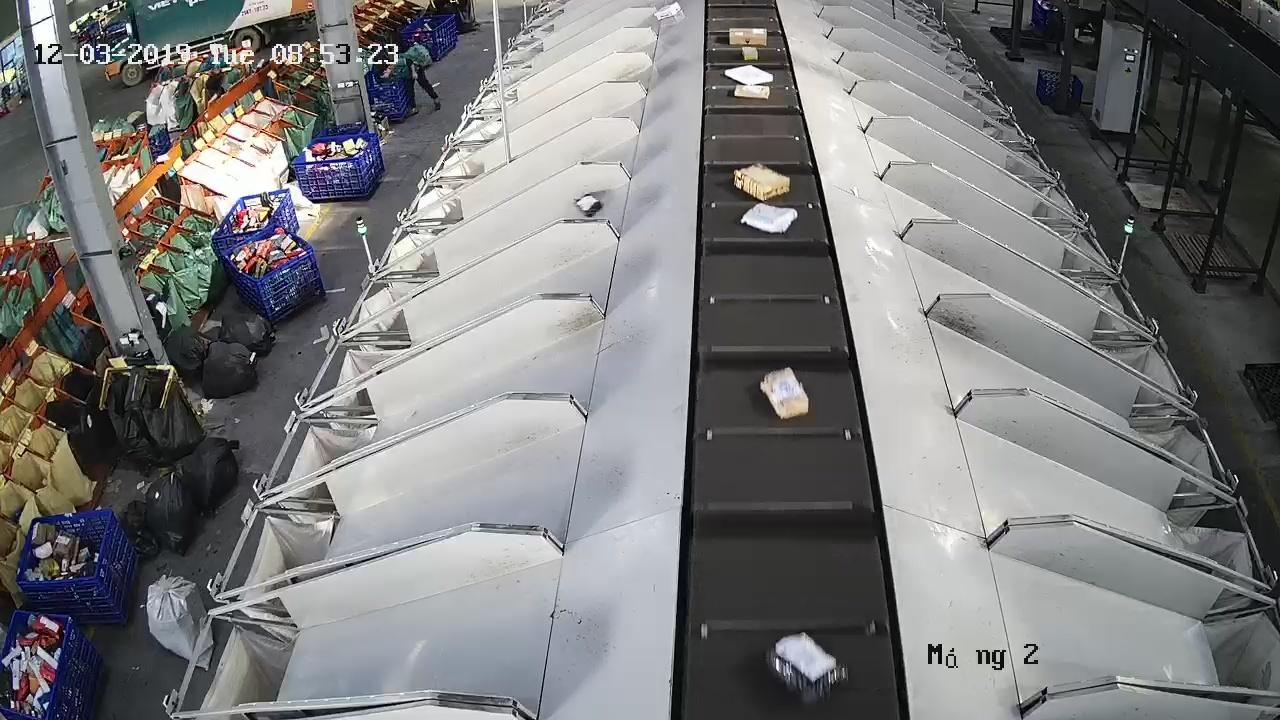parcel: (763, 629, 851, 709), (758, 364, 811, 421), (733, 162, 792, 202), (739, 203, 799, 235), (572, 192, 604, 216)
